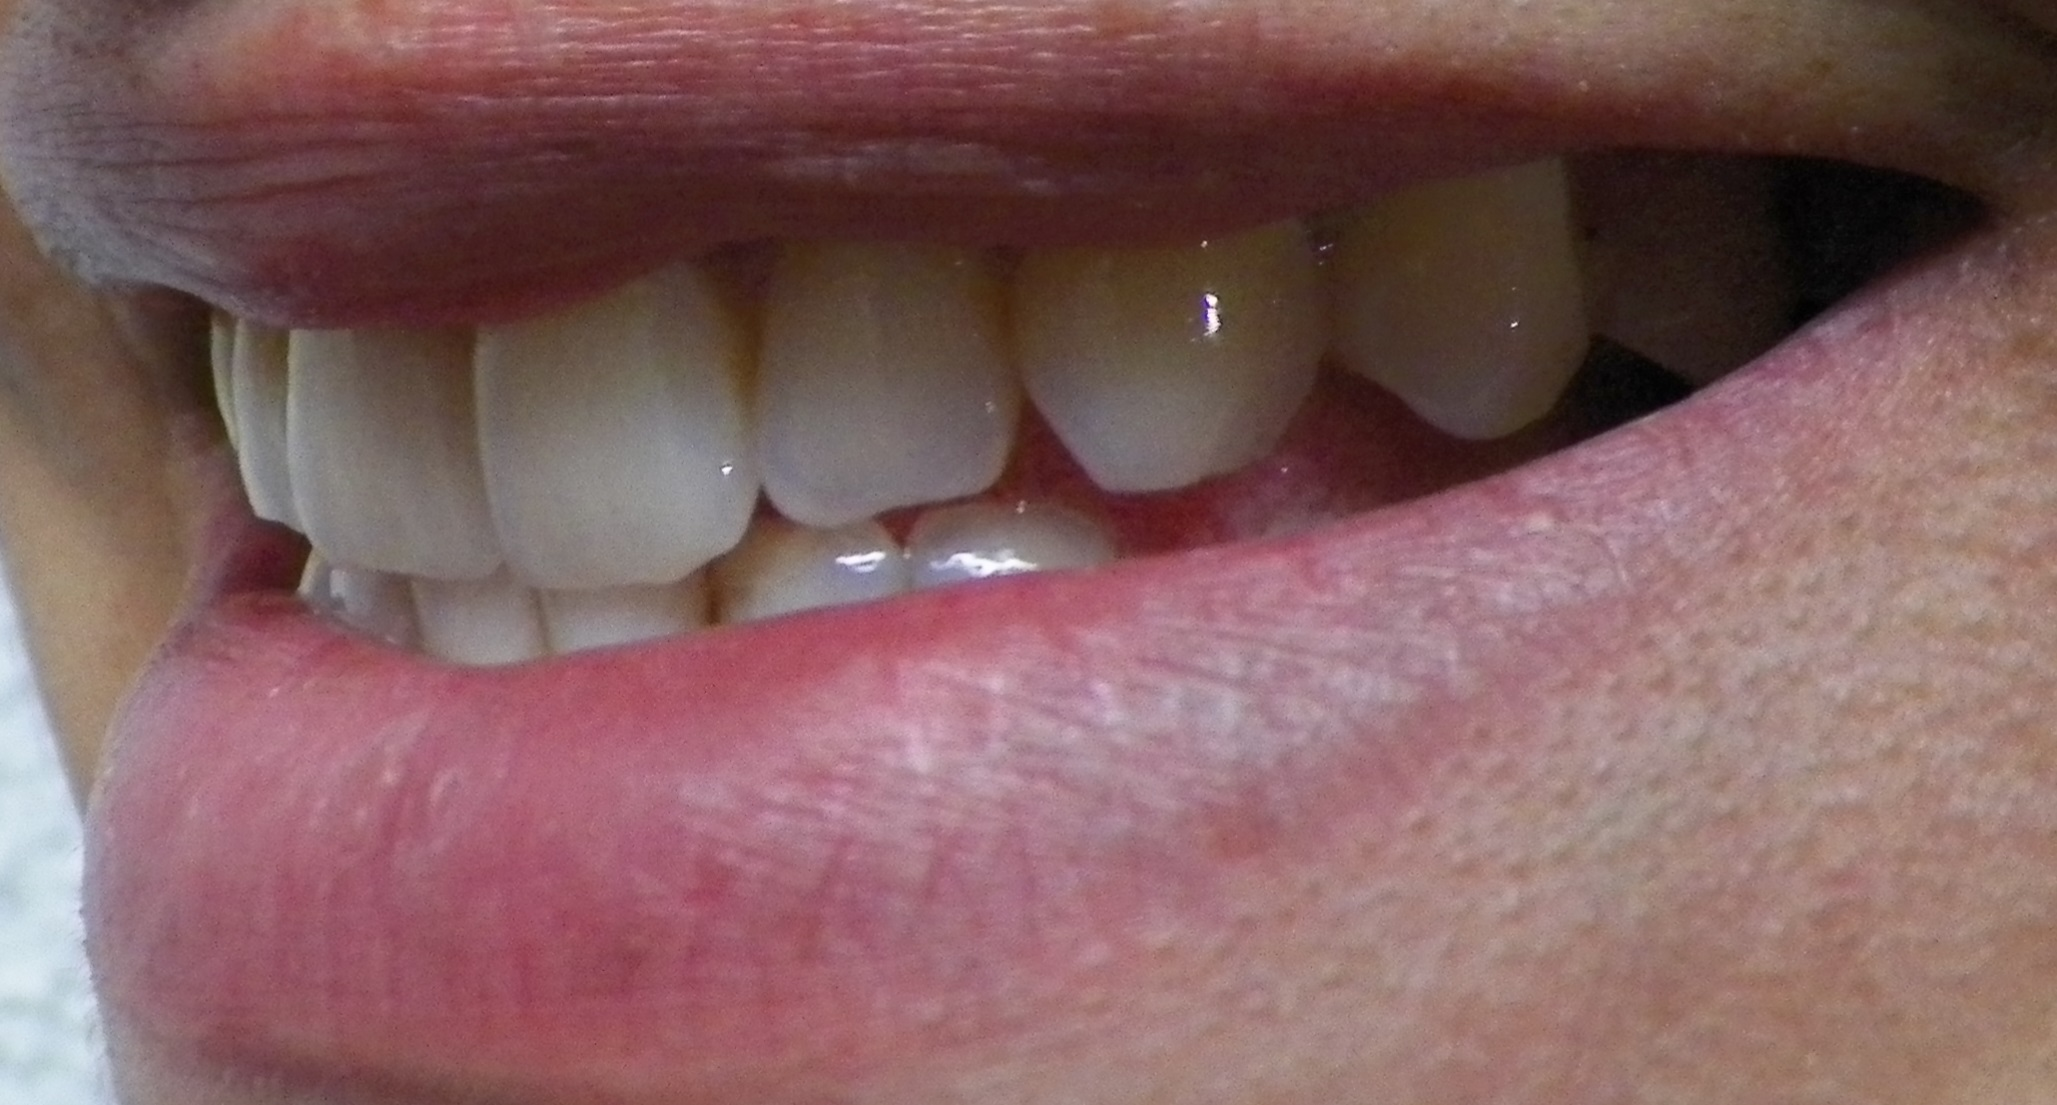boca: (207, 155, 1920, 655)
